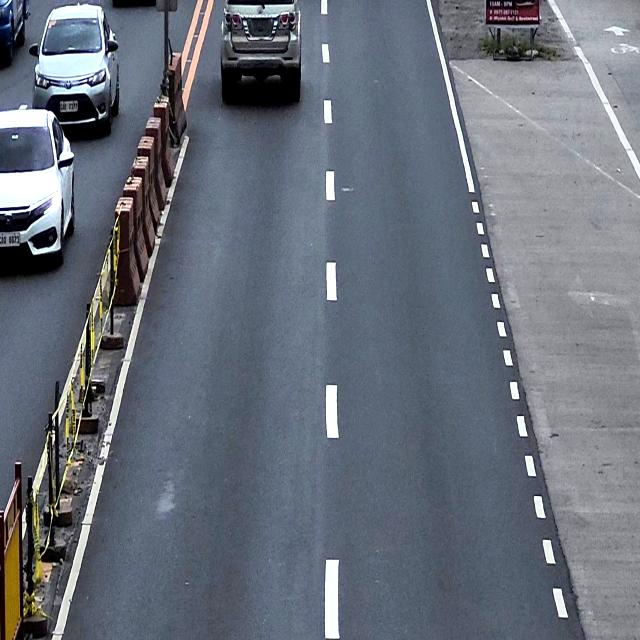Car: (28, 3, 122, 138), (0, 107, 77, 269), (220, 0, 302, 108)
License-Plate: (0, 231, 21, 248), (59, 100, 79, 113)
